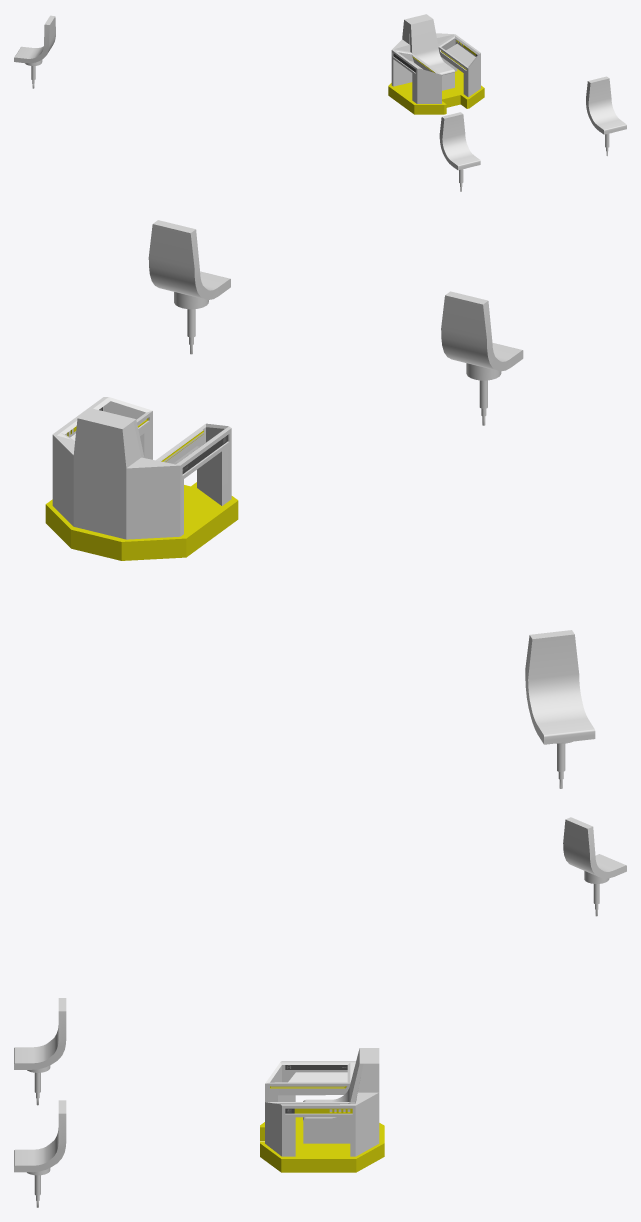
Rendered from PositionSeatsV2.fbx.
3 renders of one model, top to bottom at view 1: azimuth 30°, elevation 25°; view 2: azimuth 150°, elevation 25°; view 3: azimuth 270°, elevation 25°, orthographic. The views are drawn at different scales.
Visible parts, largest first — view 1: CaptainSeat, PilotSeat, TacticianSeat, EngineerSeat; view 2: CaptainSeat, EngineerSeat, TacticianSeat, PilotSeat; view 3: CaptainSeat, EngineerSeat, PilotSeat, TacticianSeat.
Boxes of the visible parts, bbox=[...] form: CaptainSeat: bbox=[388, 14, 484, 114]; PilotSeat: bbox=[586, 76, 626, 156]; TacticianSeat: bbox=[439, 112, 480, 191]; EngineerSeat: bbox=[14, 15, 55, 88]; CaptainSeat: bbox=[45, 397, 238, 560]; EngineerSeat: bbox=[525, 630, 595, 788]; TacticianSeat: bbox=[441, 291, 523, 425]; PilotSeat: bbox=[148, 220, 230, 354]; CaptainSeat: bbox=[260, 1048, 384, 1172]; EngineerSeat: bbox=[563, 817, 626, 916]; PilotSeat: bbox=[14, 1100, 66, 1207]; TacticianSeat: bbox=[14, 998, 66, 1105].
Bounding box in the file's own units: 10.63 × 2.17 × 9.6.
6 materials, 2 textured.
